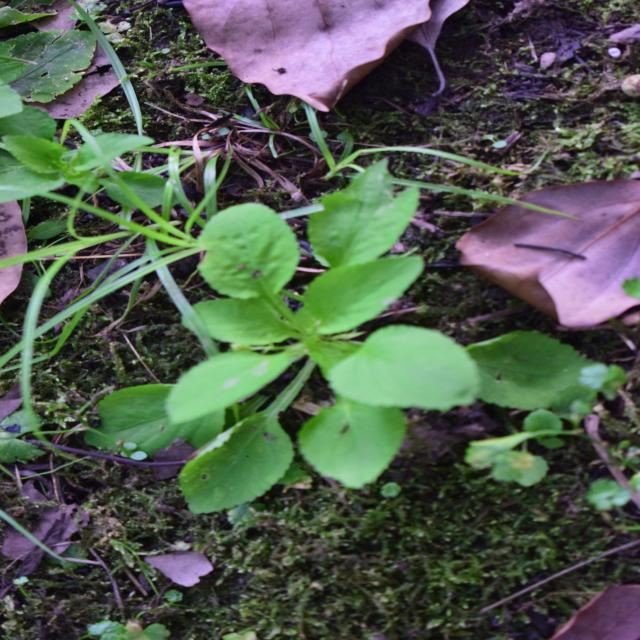Viola: (158, 155, 458, 466)
